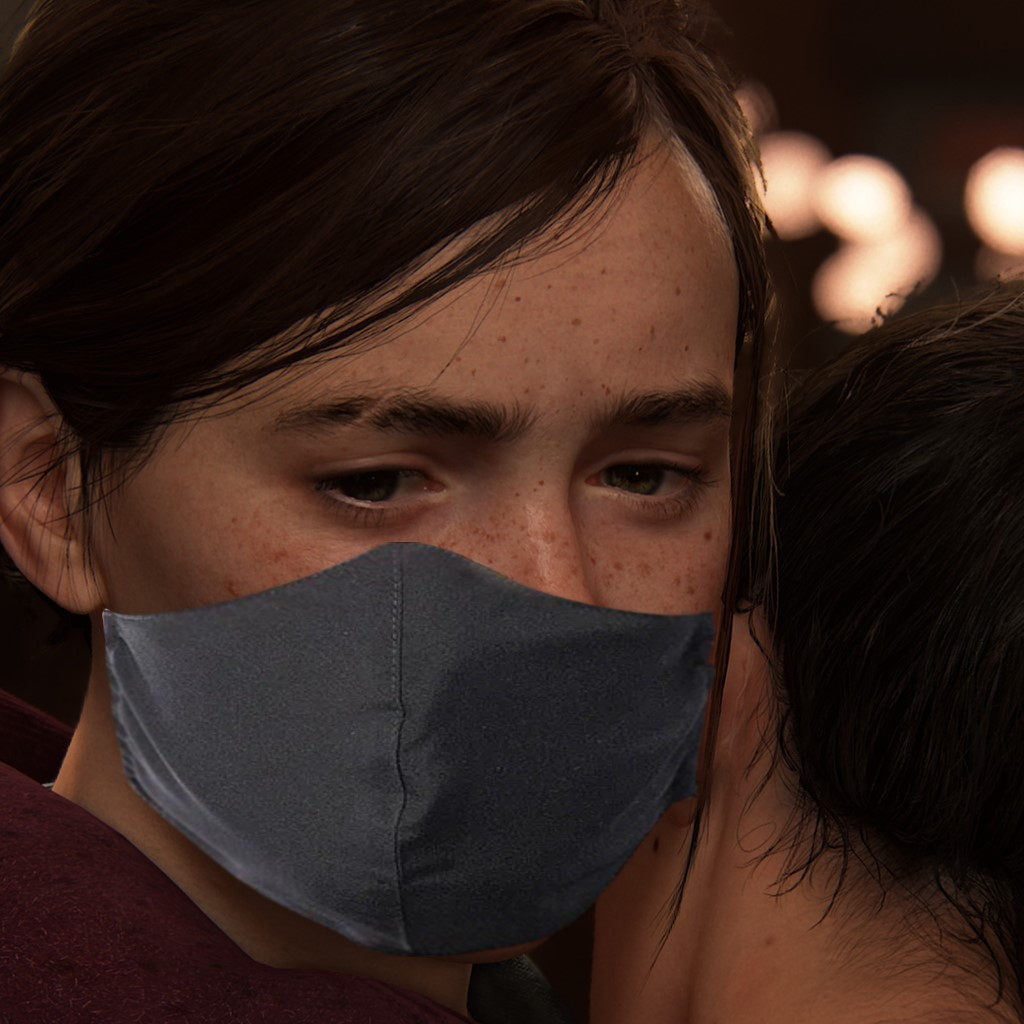con_mascara: (123, 100, 731, 928)
